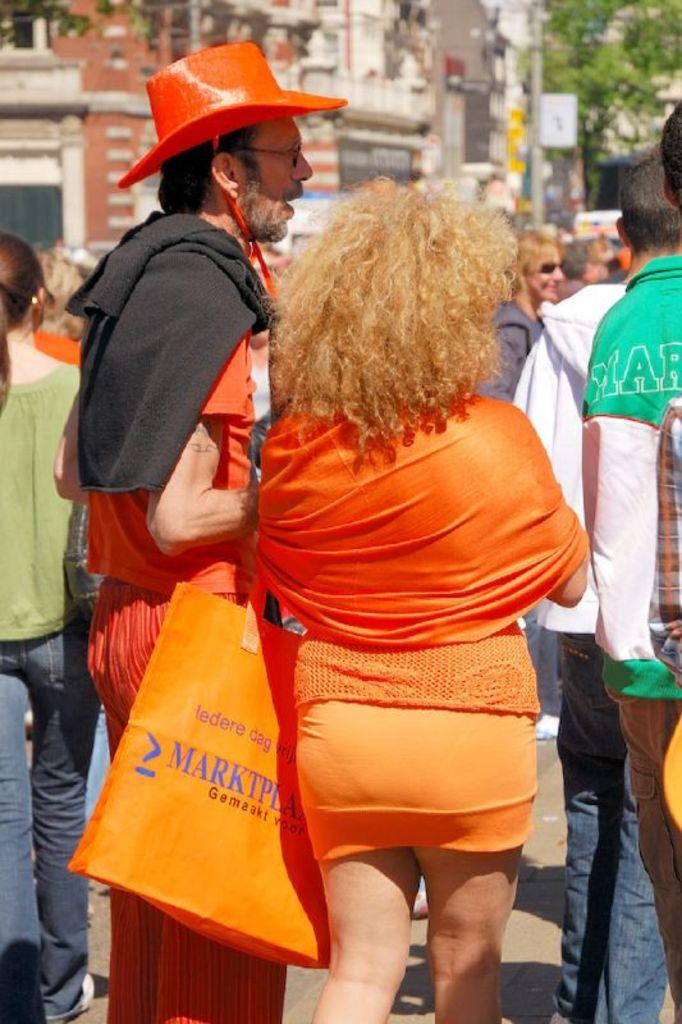Hat: (117, 39, 350, 290)
